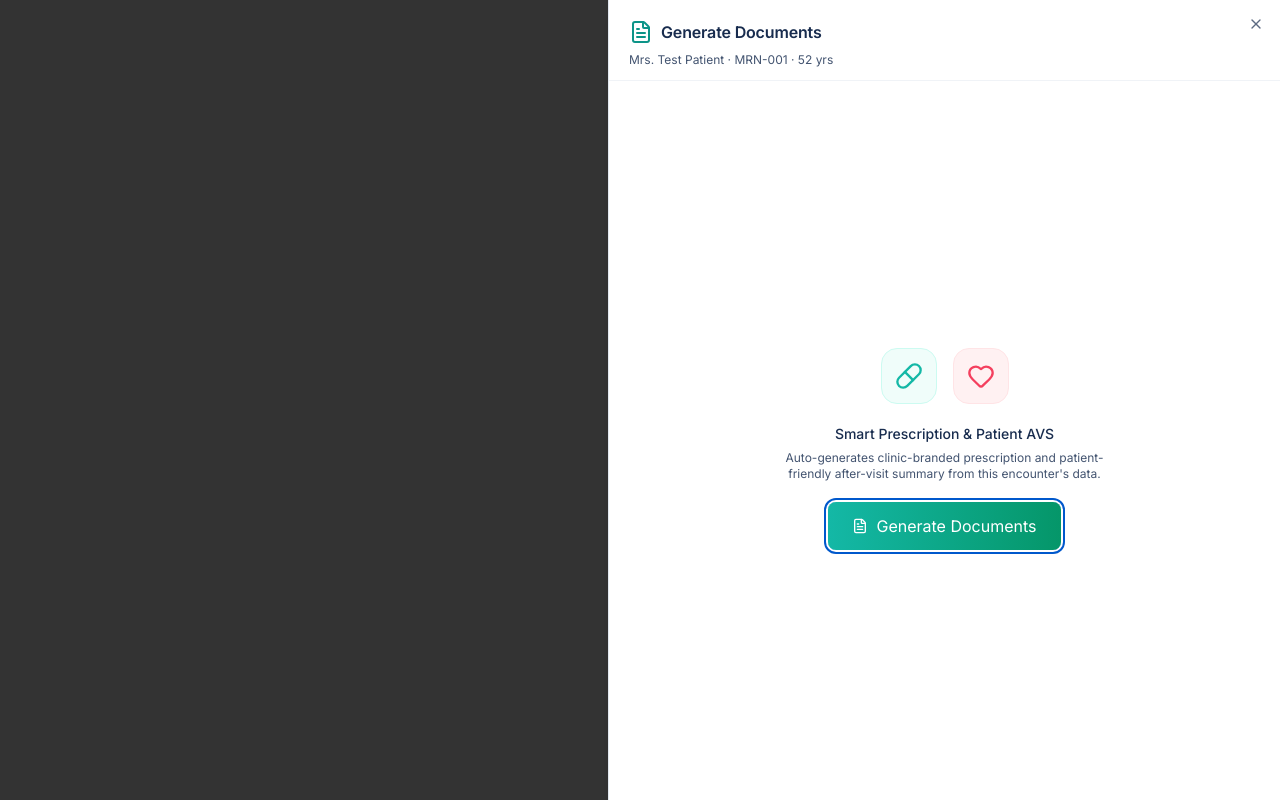
it: DocumentOutputDrawer › Generate Documents populates both Prescription and AVS tabs
This screenshot has width=1280, height=800.
Click the button "Generate Documents" at (944, 526), box [828,502,1060,550]
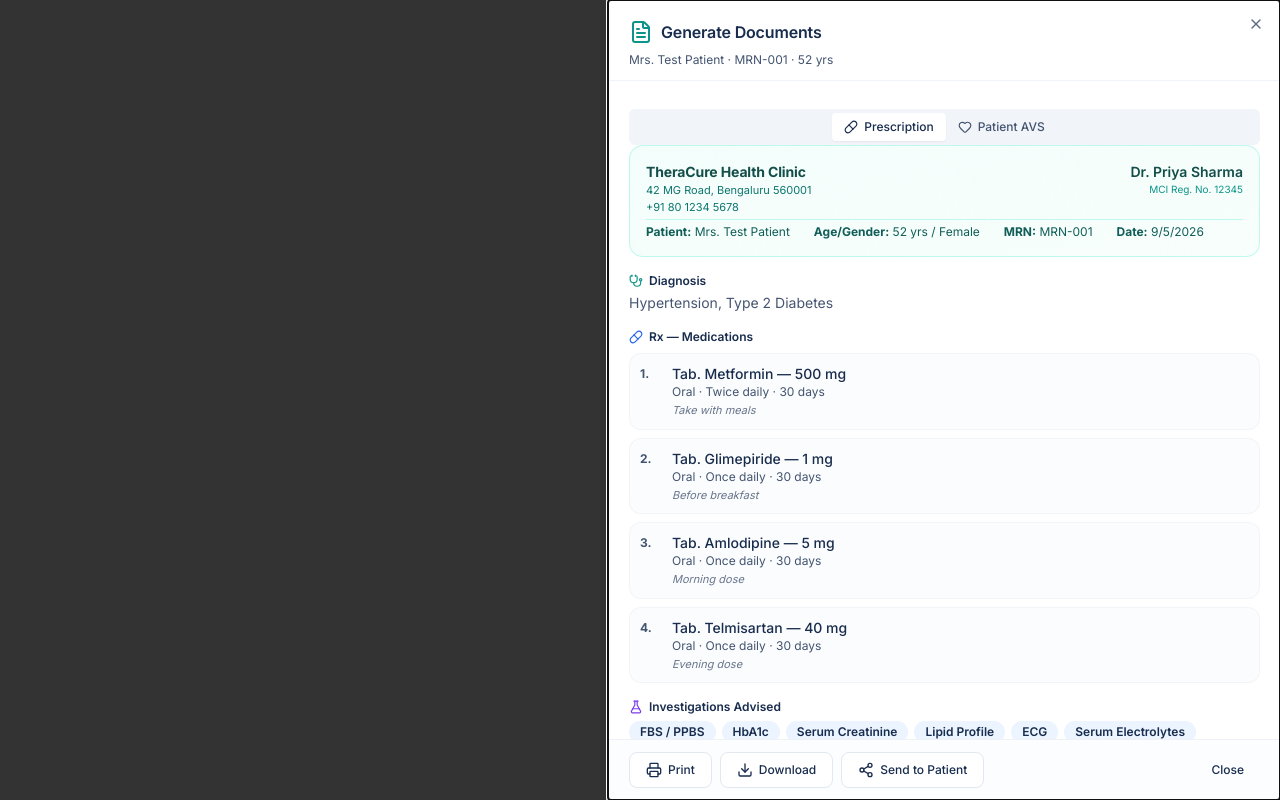
Expected: the tab "Prescription" is shown, [832,113,946,141]
Expected: the text "Tab. Metformin — 500 mg" is shown, [672,365,846,382]
Click the tab "Patient AVS" at (1001, 127), box [946,113,1057,141]
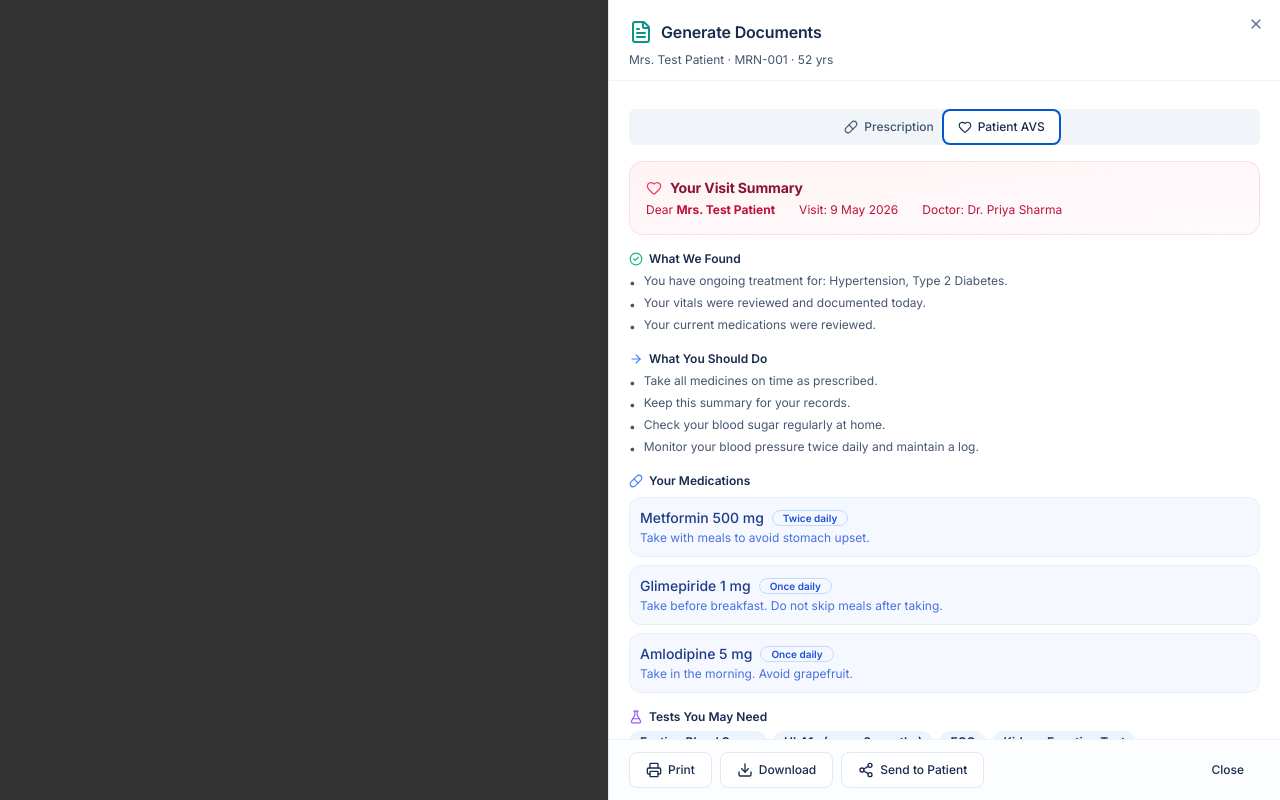
Expected: the heading "Your Visit Summary" is shown, [670,178,803,198]
